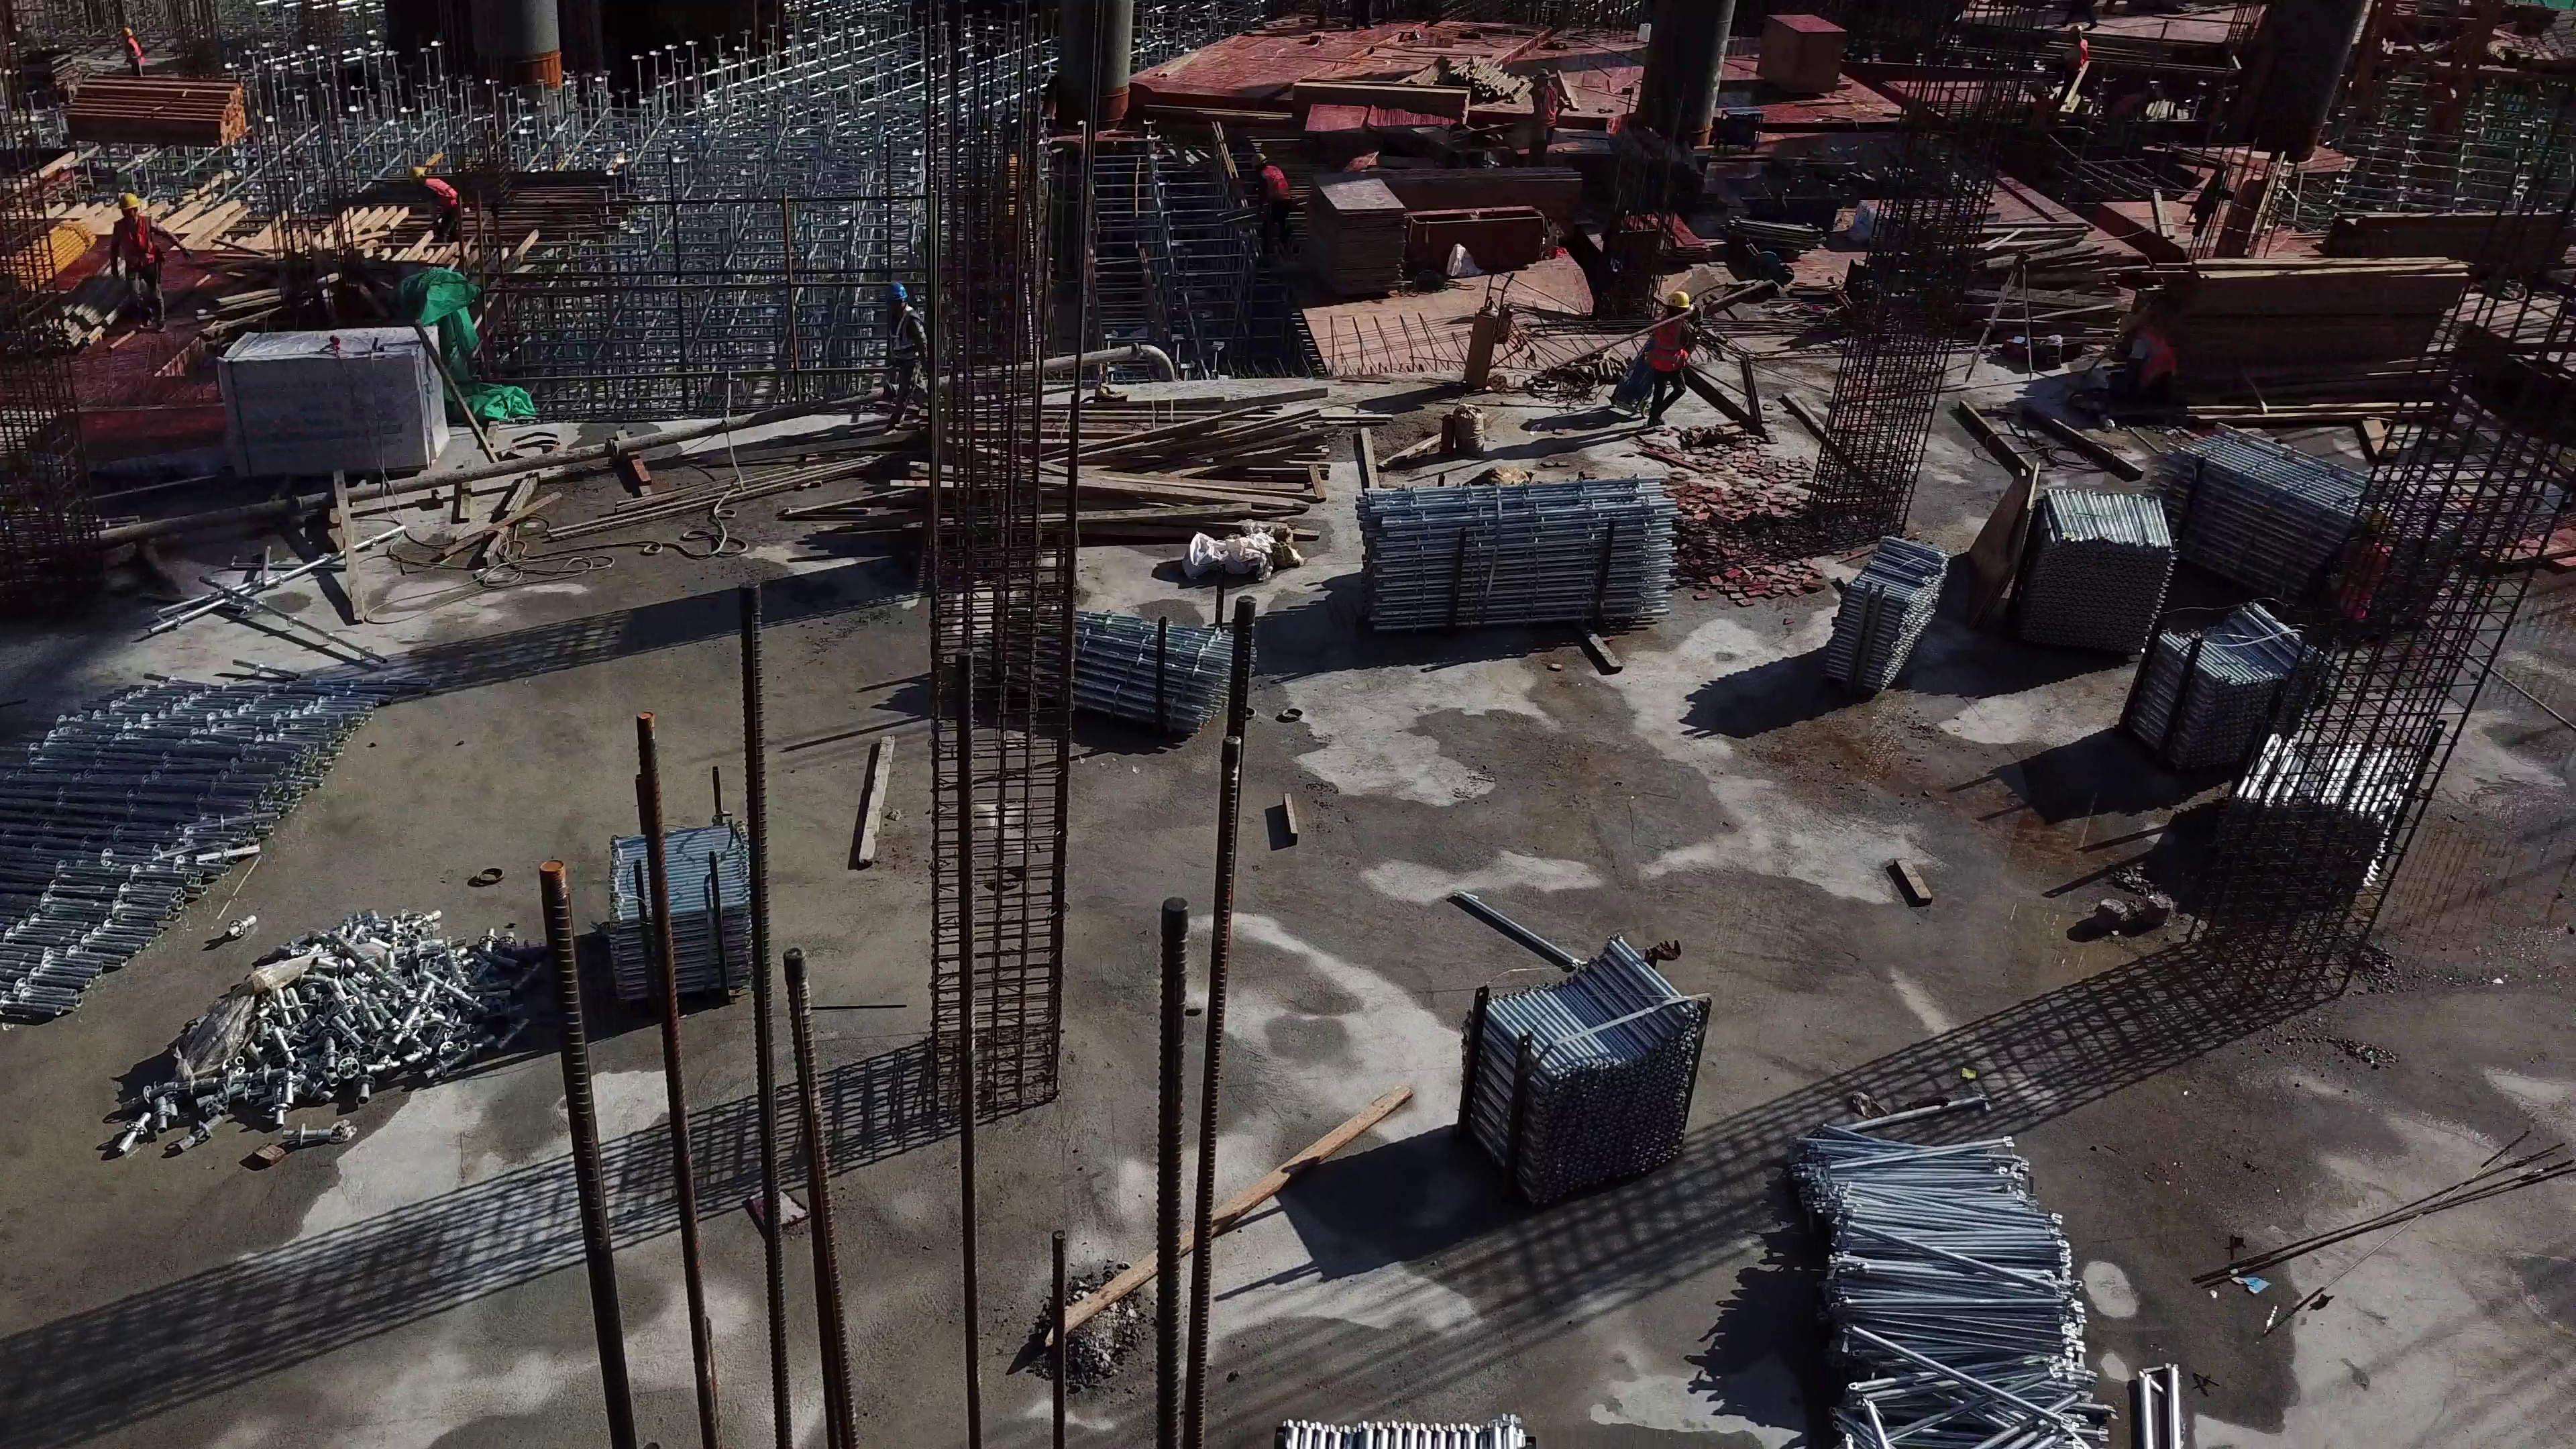board: (1309, 174, 1403, 286), (1748, 13, 1836, 95)
cutter: (1422, 123, 1497, 162), (1754, 253, 1792, 284)
helmet: (1661, 291, 1691, 310), (2118, 313, 2137, 335), (888, 280, 904, 301), (121, 195, 140, 211), (410, 164, 425, 182), (1250, 152, 1267, 165), (2069, 25, 2083, 35)
hopper: (1731, 176, 1830, 226)
person: (107, 192, 193, 329), (1638, 291, 1700, 423), (885, 278, 930, 427), (2118, 313, 2179, 420), (2339, 508, 2381, 628), (408, 165, 465, 244), (1248, 149, 1287, 258), (1528, 68, 1564, 162), (2065, 21, 2086, 107), (121, 23, 144, 77)
scaffold: (1, 687, 386, 1030), (1782, 1126, 2072, 1449), (1482, 934, 1695, 1163), (1367, 478, 1671, 625), (2167, 427, 2389, 610), (988, 598, 1228, 733), (2220, 722, 2397, 892), (2137, 624, 2314, 767), (610, 830, 754, 998), (2022, 492, 2159, 647), (1843, 535, 1917, 678), (1281, 1407, 1525, 1449)
vest: (116, 218, 156, 265), (1652, 316, 1686, 370), (889, 308, 920, 358), (421, 176, 461, 213), (2137, 330, 2169, 378), (1261, 165, 1284, 201), (1538, 87, 1555, 126), (2073, 39, 2087, 67), (128, 38, 142, 60)
wood: (2167, 262, 2462, 352), (64, 76, 242, 143), (1371, 167, 1586, 205), (1291, 78, 1469, 119)
